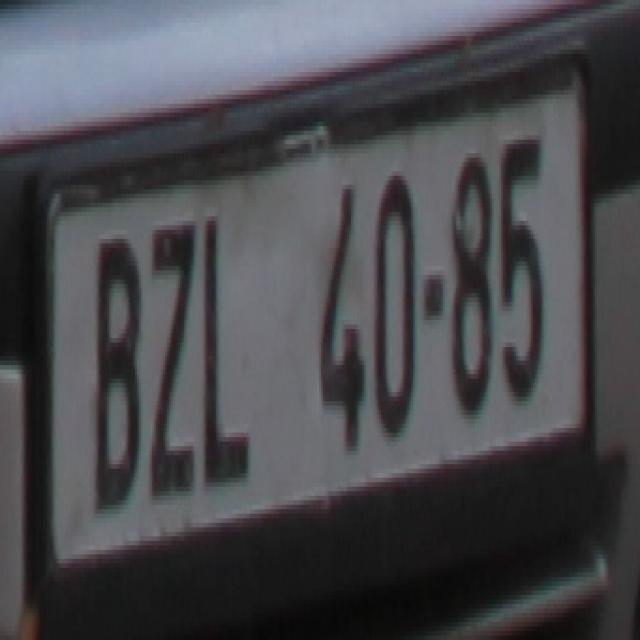0: (372, 162, 416, 442)
4: (315, 176, 364, 460)
5: (497, 130, 548, 424)
8: (448, 144, 496, 424)
B: (90, 230, 141, 514)
L: (201, 212, 253, 491)
Z: (146, 212, 199, 500)
